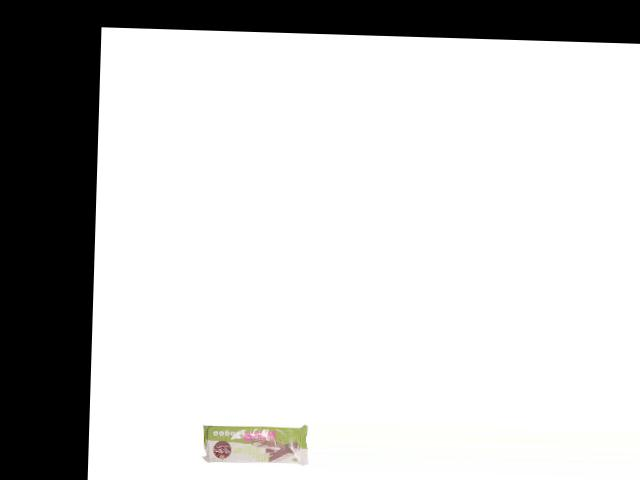chocolate: (198, 422, 308, 469)
